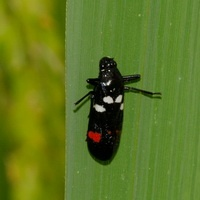insect: (75, 57, 160, 163)
